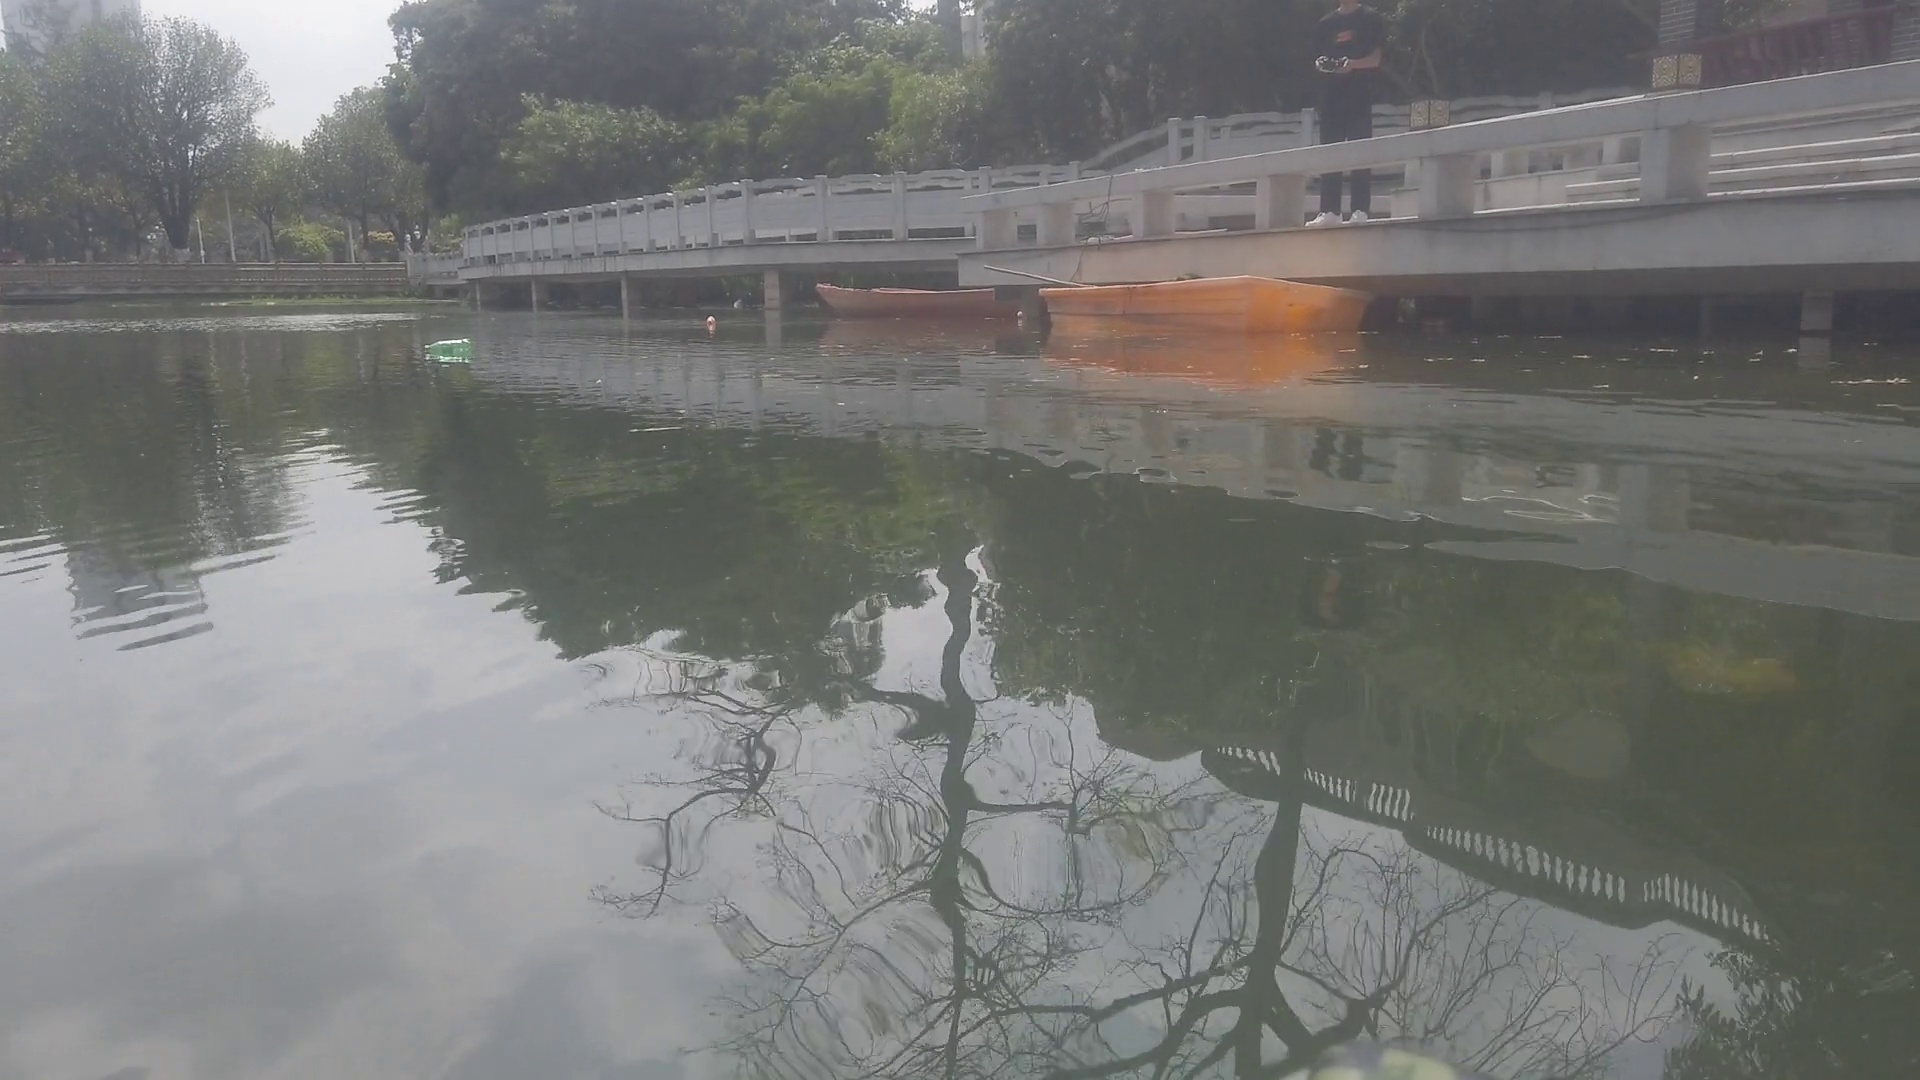bottle: (425, 335, 469, 352), (705, 311, 713, 324)
